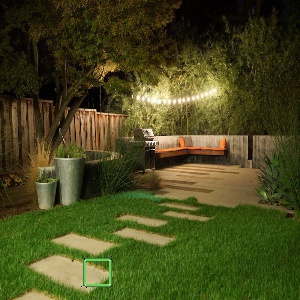square: (81, 256, 113, 289)
